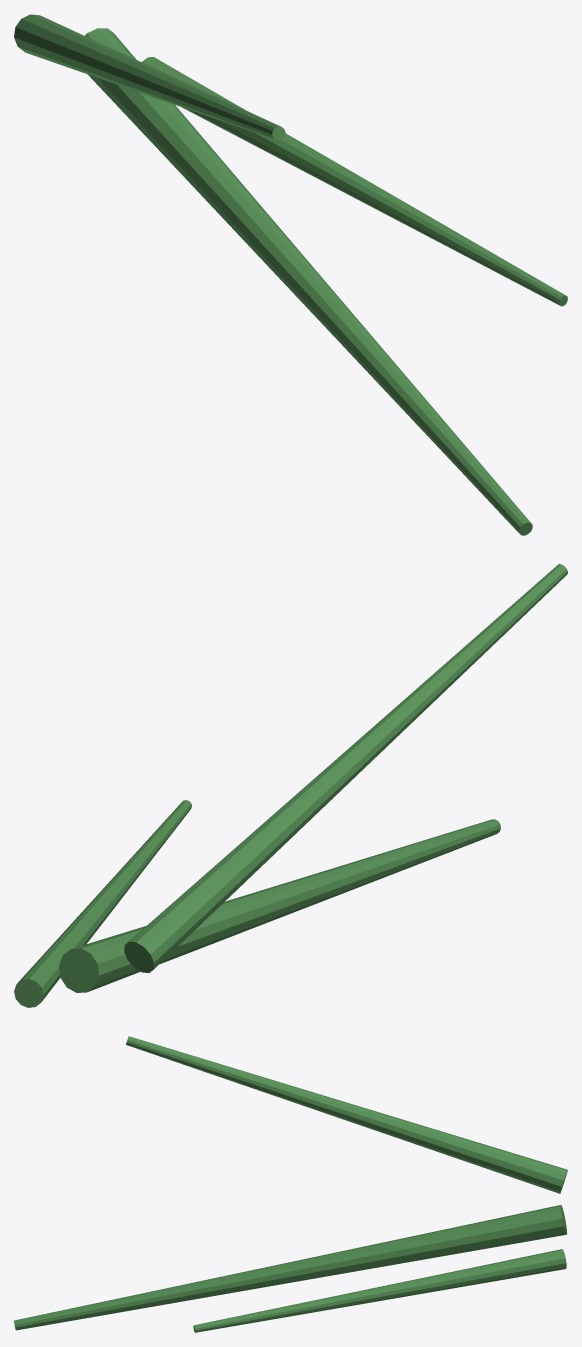
Rendered from seaweed.glb.
3 renders of one model, top to bottom at view 1: azimuth 30°, elevation 25°; view 2: azimuth 150°, elevation 25°; view 3: azimuth 270°, elevation 25°, orthographic. The views are drawn at different scales.
Parts seen in each view (by area): view 1: stalk_0, stalk_1, stalk_2; view 2: stalk_1, stalk_0, stalk_2; view 3: stalk_0, stalk_1, stalk_2.
Boxes of the visible parts, box(x1,y1,x2,y2) form: stalk_0: box(85, 28, 532, 535); stalk_1: box(14, 14, 285, 140); stalk_2: box(142, 57, 567, 306); stalk_1: box(124, 564, 567, 972); stalk_0: box(59, 819, 500, 992); stalk_2: box(14, 800, 191, 1007); stalk_0: box(14, 1205, 567, 1330); stalk_1: box(126, 1036, 567, 1193); stalk_2: box(193, 1249, 566, 1332).
Bounding box in the file's own units: 1.01 × 1.06 × 2.17.
